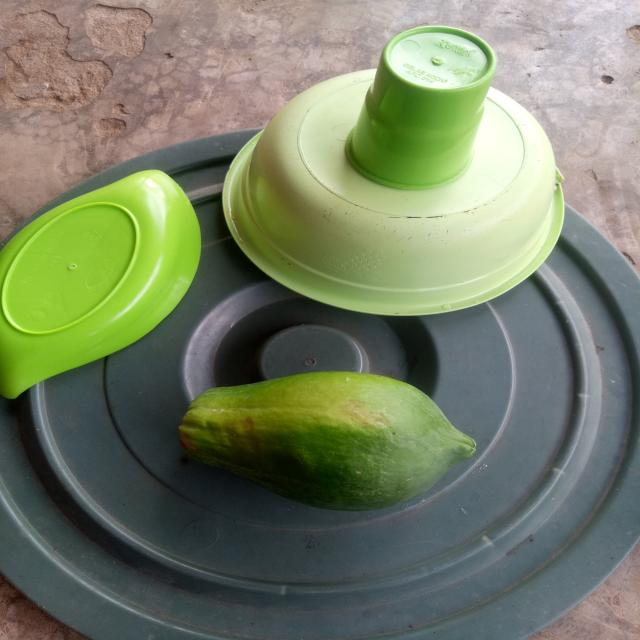Pepaya unrippen: (168, 374, 480, 512)
